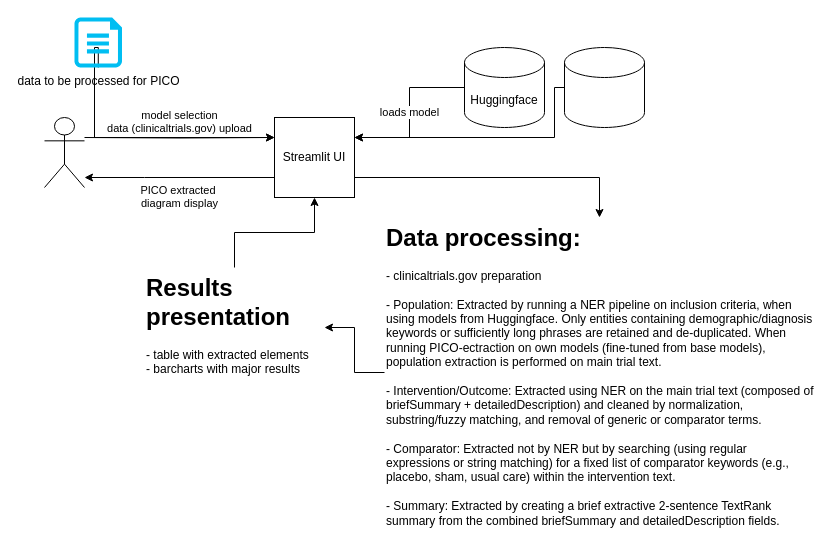
This 832x547 diagram has some shape labels left out. Each missing label, with the centre of its shape:
"proprietary fine-tuned models" goes at point (604, 87).
"User" goes at point (64, 152).
